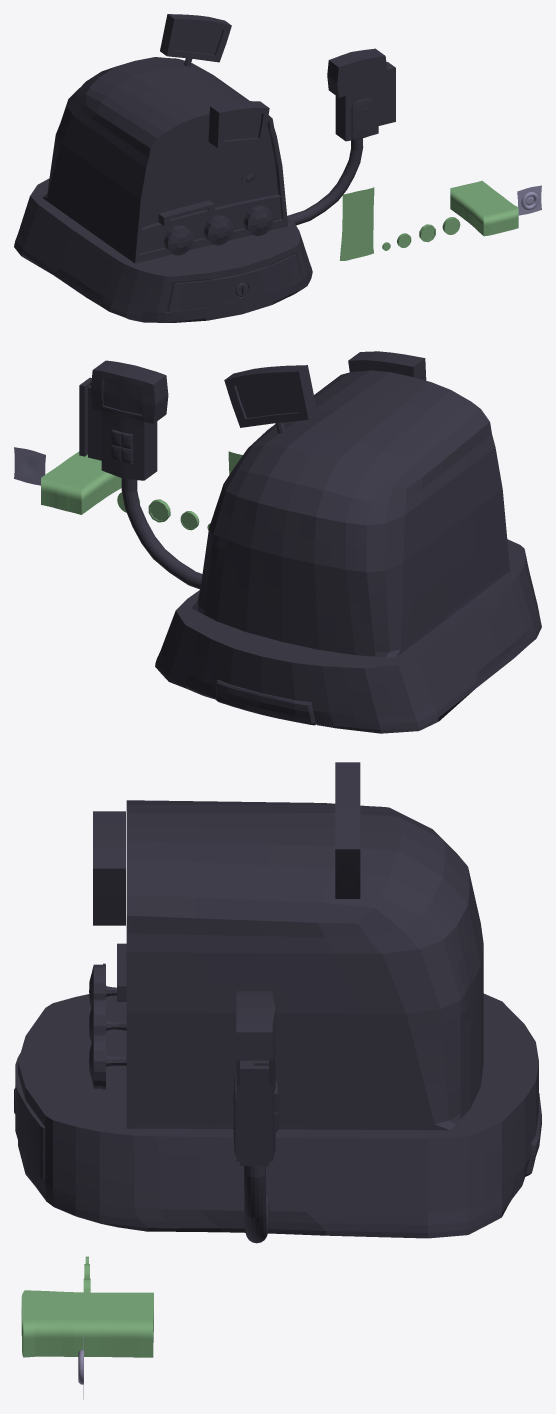
The model's file is Kupa_All.fbx.
3 renders of one model, top to bottom at view 1: azimuth 30°, elevation 25°; view 2: azimuth 150°, elevation 25°; view 3: azimuth 270°, elevation 25°, orthographic. The views are drawn at different scales.
Parts seen in each view (by area): view 1: Register, polySurface10, cash_drawer, screen_top, pPlane2, Screen_bottom, pPlane1, reciept_printer, Condom; view 2: Register, polySurface10, screen_top, pPlane2, Screen_bottom, Condom; view 3: Register, polySurface10, pPlane2, Screen_bottom, screen_top, cash_drawer.
Part boxes in pixels (<box>): Register: <box>14,57,312,322</box>; polySurface10: <box>287,48,395,225</box>; cash_drawer: <box>167,253,301,311</box>; screen_top: <box>160,14,231,66</box>; pPlane2: <box>450,180,518,236</box>; Screen_bottom: <box>208,101,269,148</box>; pPlane1: <box>339,187,374,260</box>; reciept_printer: <box>158,200,214,226</box>; Condom: <box>517,185,541,215</box>; Register: <box>155,370,541,733</box>; polySurface10: <box>79,360,202,589</box>; screen_top: <box>224,365,317,433</box>; pPlane2: <box>41,451,121,514</box>; Screen_bottom: <box>348,351,426,380</box>; Condom: <box>14,447,45,485</box>; Register: <box>18,800,541,1238</box>; polySurface10: <box>233,991,278,1243</box>; pPlane2: <box>21,1290,153,1357</box>; Screen_bottom: <box>93,811,125,925</box>; screen_top: <box>335,762,360,898</box>; cash_drawer: <box>14,1053,45,1179</box>.
Bounding box in the file's own units: 31.81 × 16.13 × 19.18.
